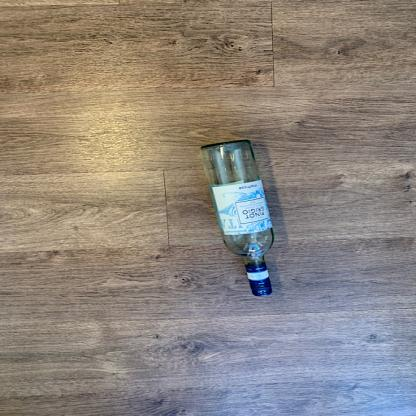trash: (199, 137, 280, 302)
